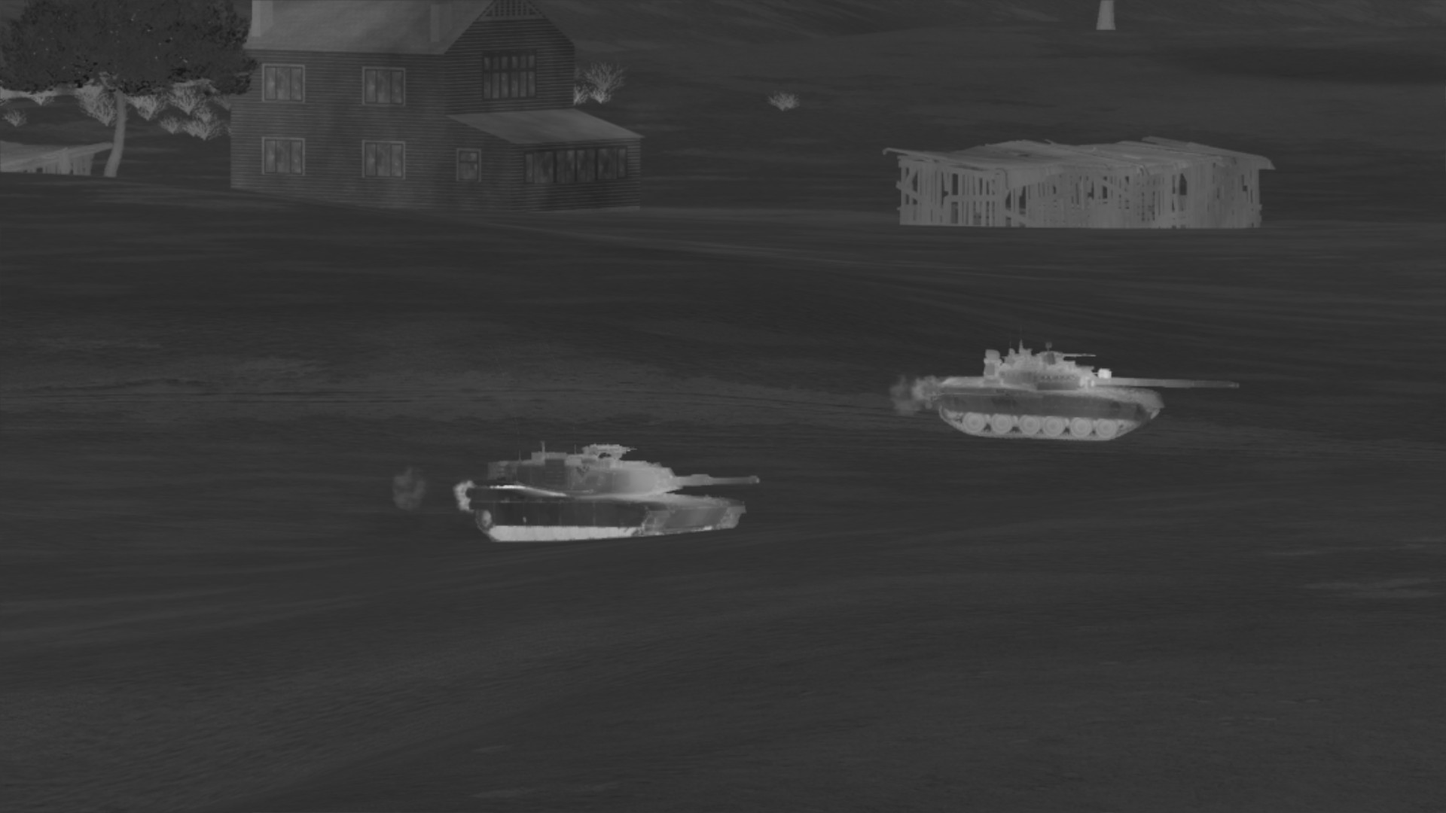abrams: (466, 443, 761, 543)
t-80u: (927, 342, 1238, 442)
